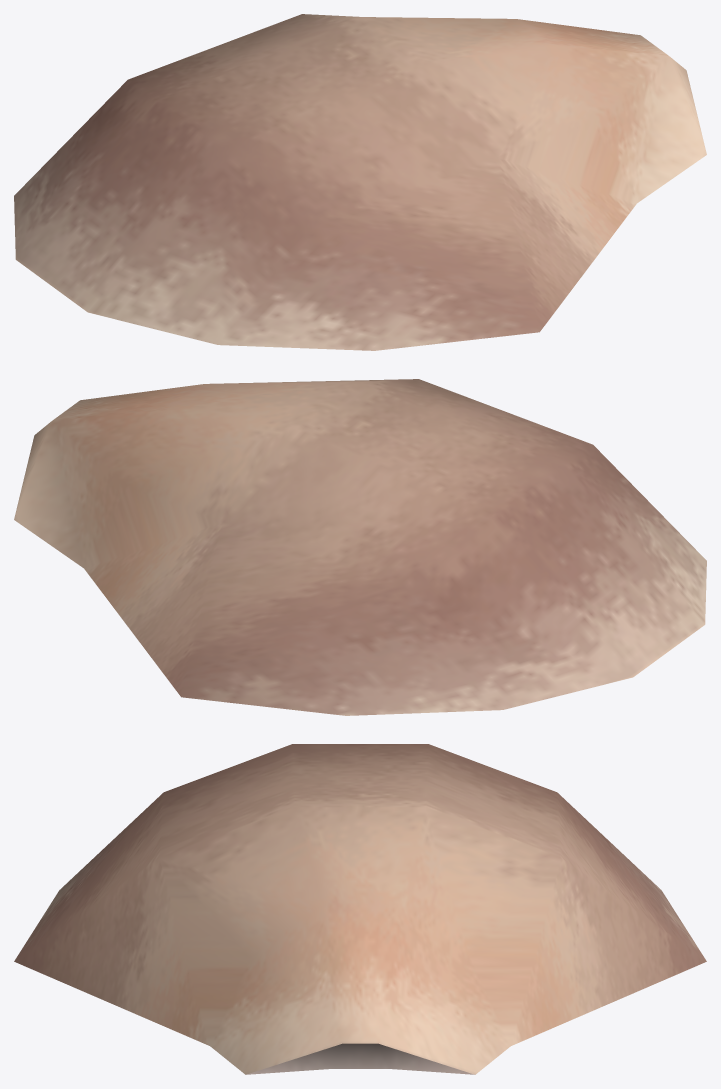
Rendered from Shell_Layered.fbx.
3 renders of one model, top to bottom at view 1: azimuth 30°, elevation 25°; view 2: azimuth 150°, elevation 25°; view 3: azimuth 270°, elevation 25°, orthographic. The views are drawn at different scales.
Parts seen in each view (by area): view 1: Shell Layered Top.001; view 2: Shell Layered Top.001; view 3: Shell Layered Top.001, Shell Layered Bottom.001.
Boxes of the visible parts, x1,y1,x2,y2 form: Shell Layered Top.001: (14,14,706,350); Shell Layered Top.001: (14,379,706,715); Shell Layered Top.001: (14,744,706,1074); Shell Layered Bottom.001: (246,1043,474,1074).
Bounding box in the file's own units: 13.66 × 3.38 × 12.8.
